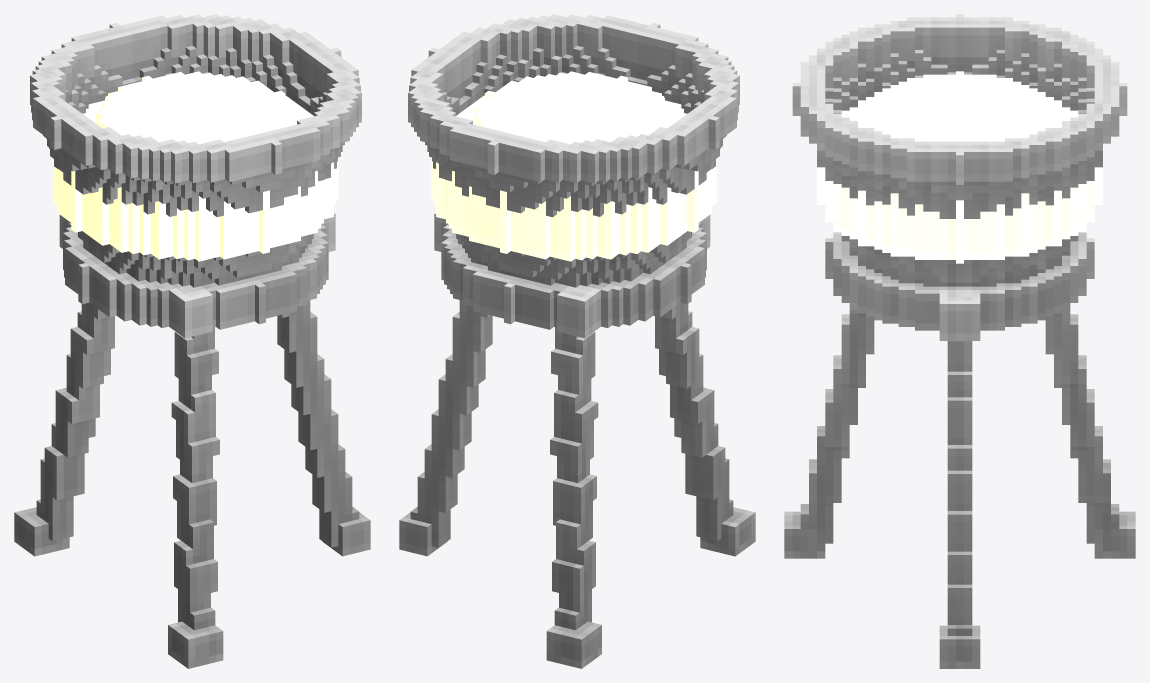
File: standing_iron_brazier.glb
3 views of the same model, side by side, from view 1: azimuth 30°, elevation 25°; view 2: azimuth 150°, elevation 25°; view 3: azimuth 270°, elevation 25° (orthographic).
Visible parts, largest first — view 1: StandingIronBrazier; view 2: StandingIronBrazier; view 3: StandingIronBrazier.
Boxes of the visible parts, x1,y1,x2,y2 form: StandingIronBrazier: [14, 14, 370, 668]; StandingIronBrazier: [399, 14, 755, 668]; StandingIronBrazier: [784, 14, 1135, 668].
Bounding box in the file's own units: 0.88 × 1.36 × 0.86.
